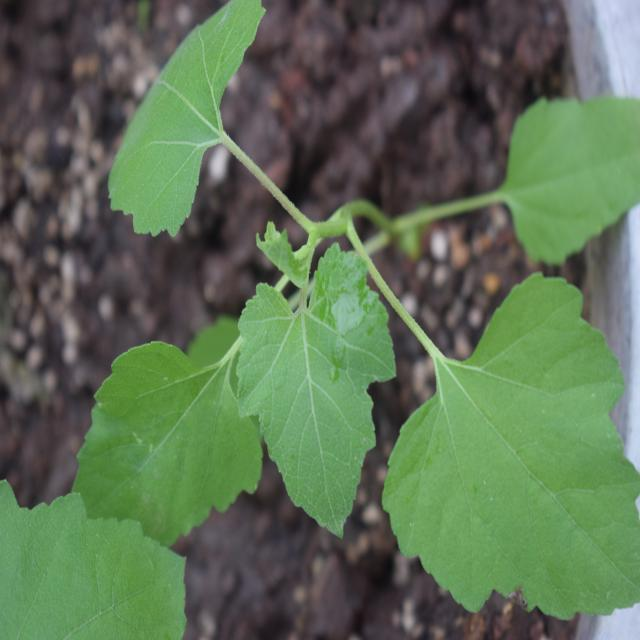cocklebur: (109, 18, 624, 618)
